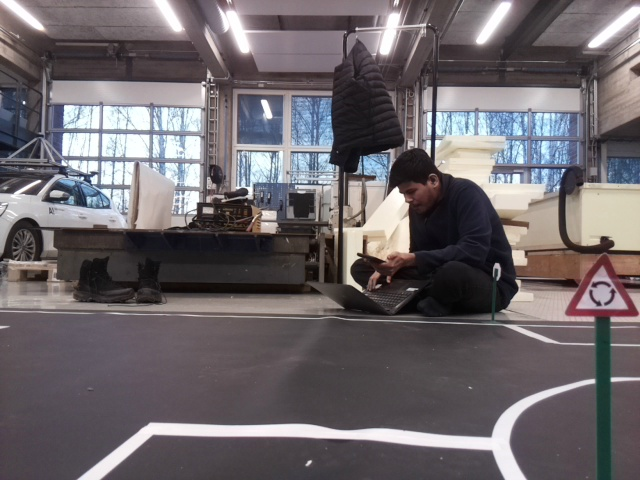Roundabout: (563, 251, 637, 318)
